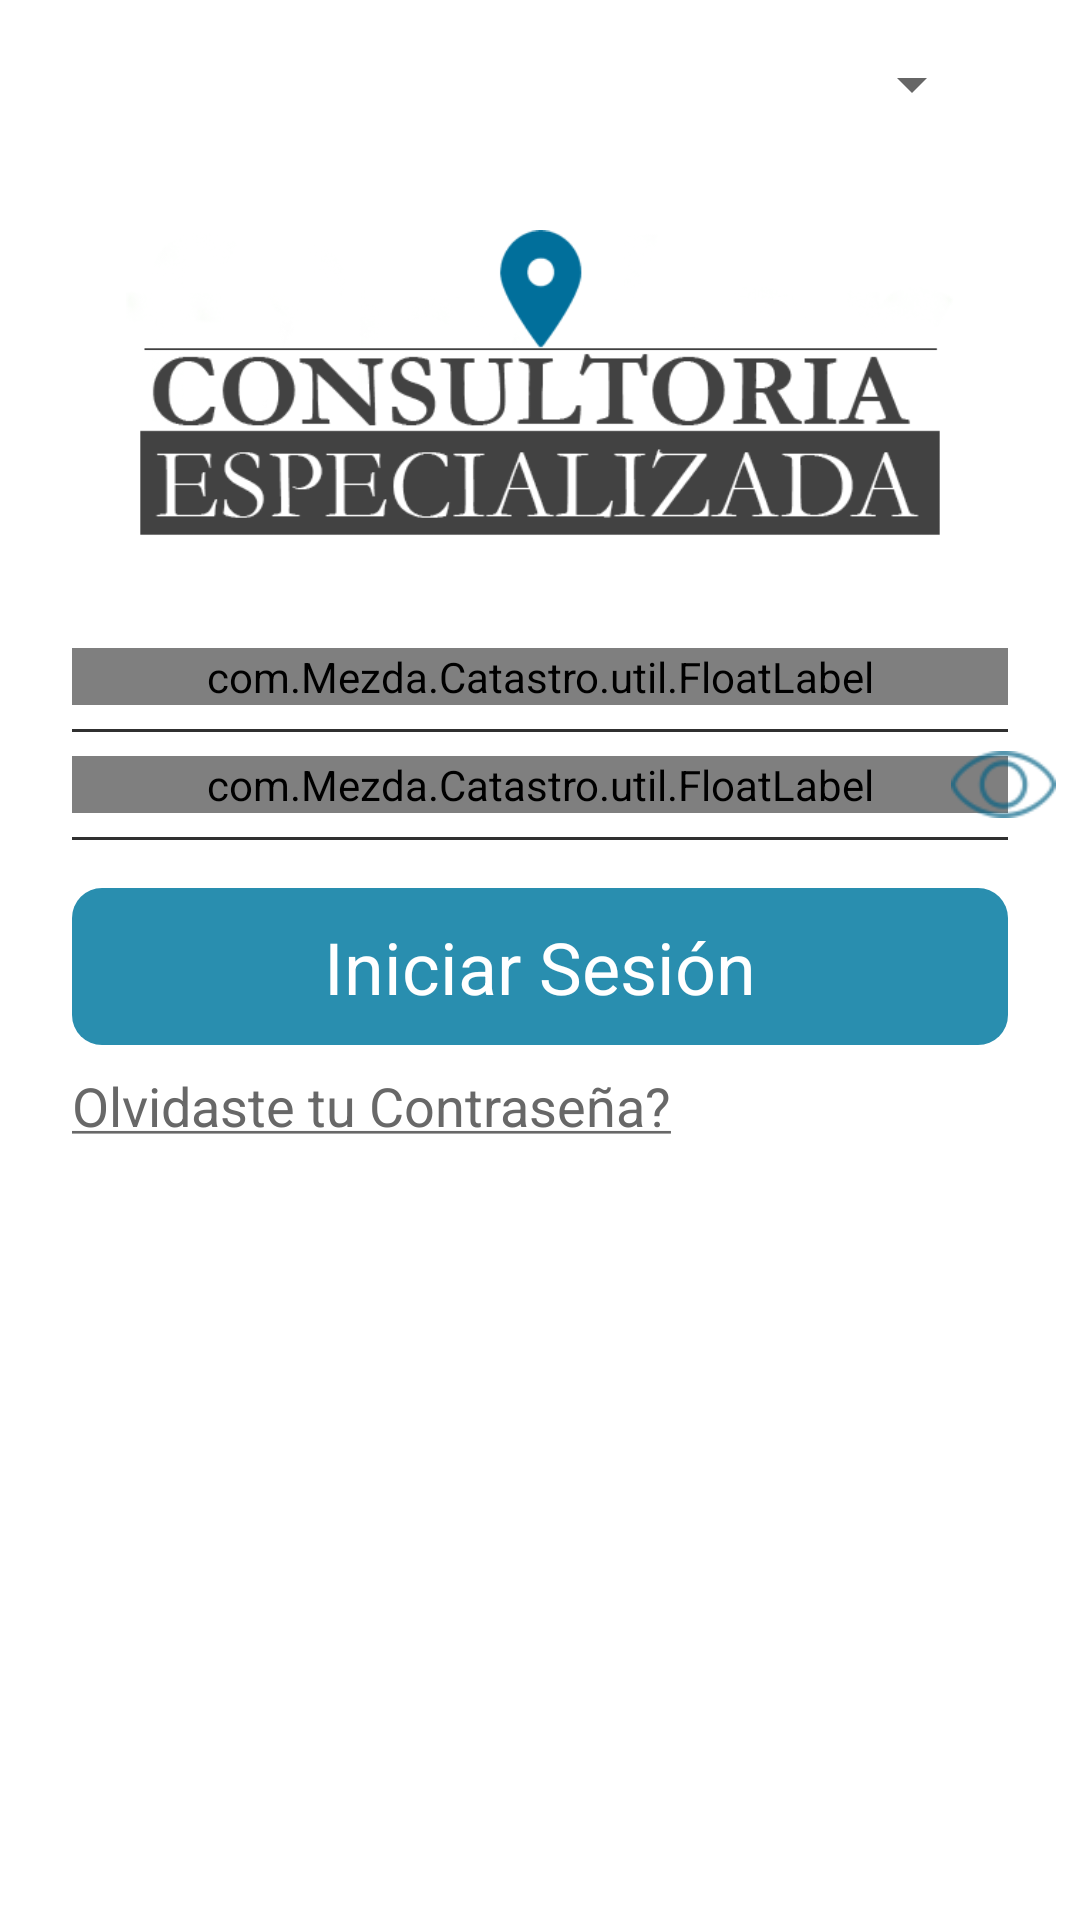

Named icons in this screenshot (1080*1920) and their bounding boxes, (x1, y1, x2, y2):
show password: (951, 751, 1056, 818)
